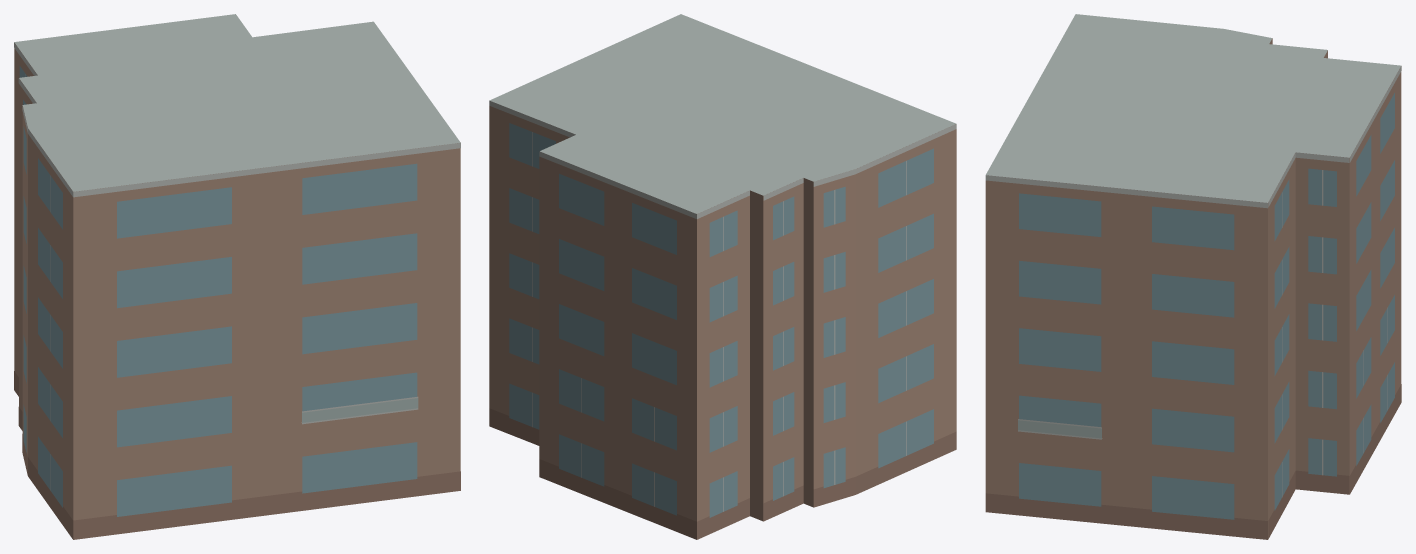
Rendered from survey-upis-32598761.glb.
3 views of the same model, side by side, from view 1: azimuth 30°, elevation 25°; view 2: azimuth 150°, elevation 25°; view 3: azimuth 270°, elevation 25° (orthographic). The views are drawn at different scales.
Parts seen in each view (by area): view 1: survey-upis-32598761.tmp; view 2: survey-upis-32598761.tmp; view 3: survey-upis-32598761.tmp.
Part boxes in pixels (x1,y1,x2,y2): survey-upis-32598761.tmp: (14,14,460,539); survey-upis-32598761.tmp: (489,14,956,539); survey-upis-32598761.tmp: (985,14,1401,539).
Size of the model in its own units: 18.53 by 15.4 by 17.24.
